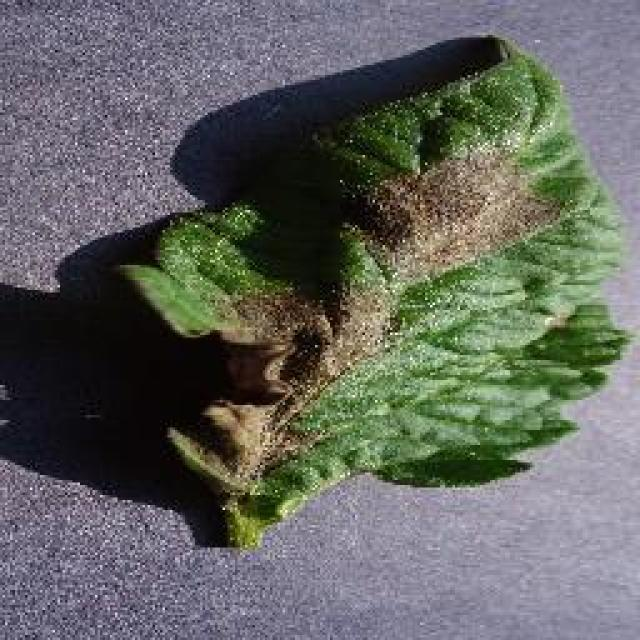Tomato Late Blight: (137, 186, 565, 536)
